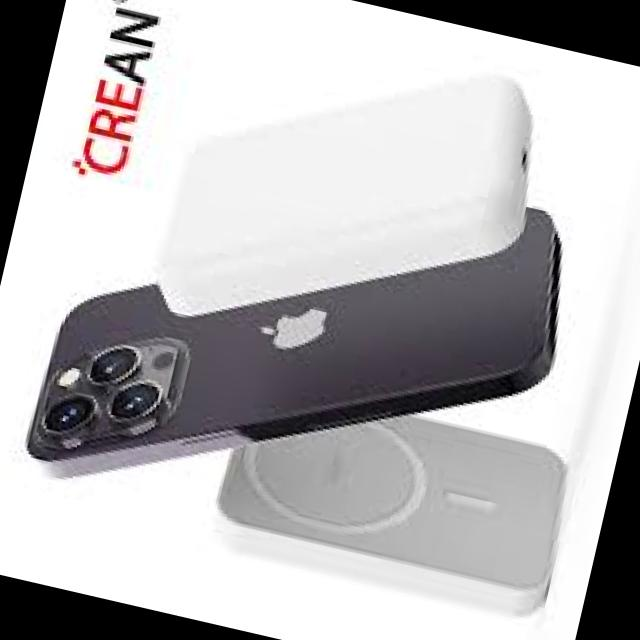portable-charger: (145, 8, 554, 387), (199, 368, 583, 626)
